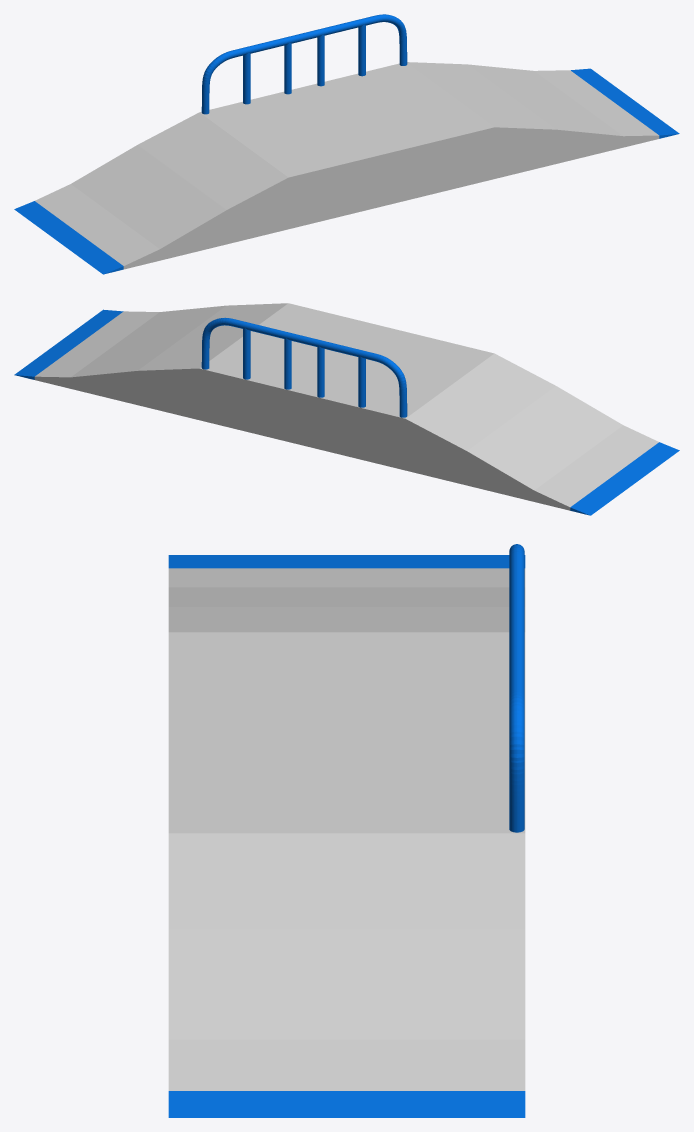
File: rampa.fbx
3 renders of one model, top to bottom at view 1: azimuth 30°, elevation 25°; view 2: azimuth 150°, elevation 25°; view 3: azimuth 270°, elevation 25°, orthographic. The views are drawn at different scales.
Parts seen in each view (by area): view 1: rampa, corrimão; view 2: rampa, corrimão; view 3: rampa, corrimão.
Boxes of the visible parts, x1,y1,x2,y2 form: rampa: [14, 62, 679, 274]; corrimão: [201, 14, 407, 114]; rampa: [14, 303, 679, 515]; corrimão: [201, 317, 407, 417]; rampa: [168, 555, 525, 1117]; corrimão: [509, 544, 524, 832].
Bounding box in the file's own units: 1120 × 199 × 300.
